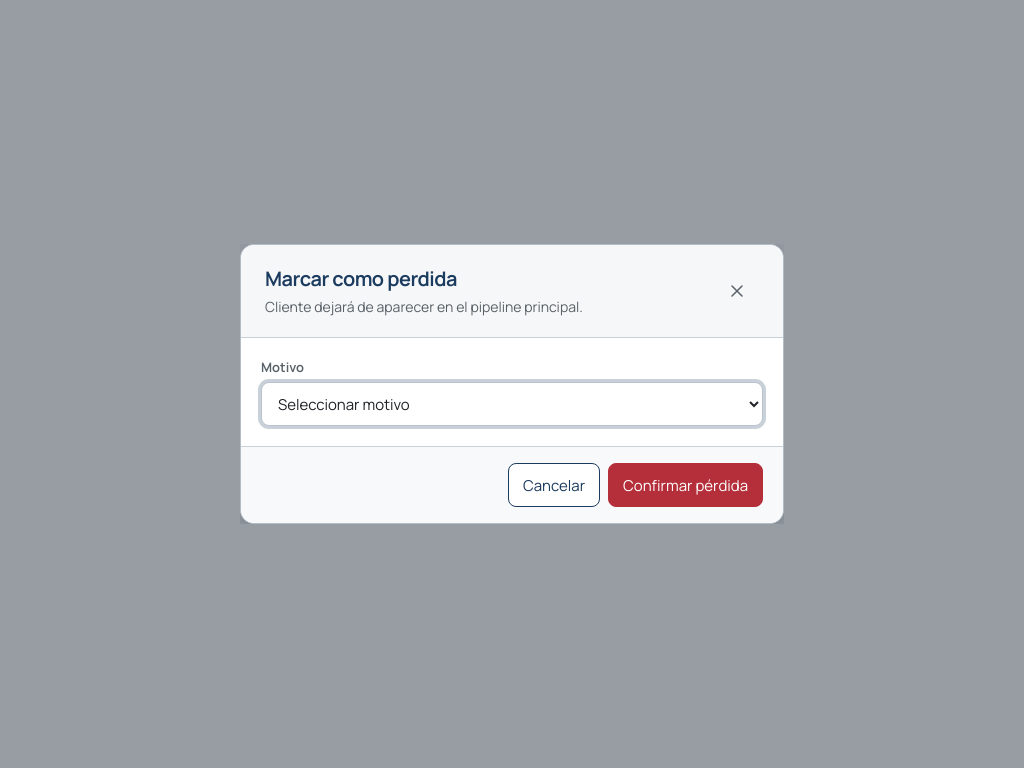
it: LossModal › keeps the dialog open with a useful command error
The image size is (1024, 768).
Select "Precio" in the dropdown labelled "Motivo" at (512, 404), box [261, 382, 763, 426]
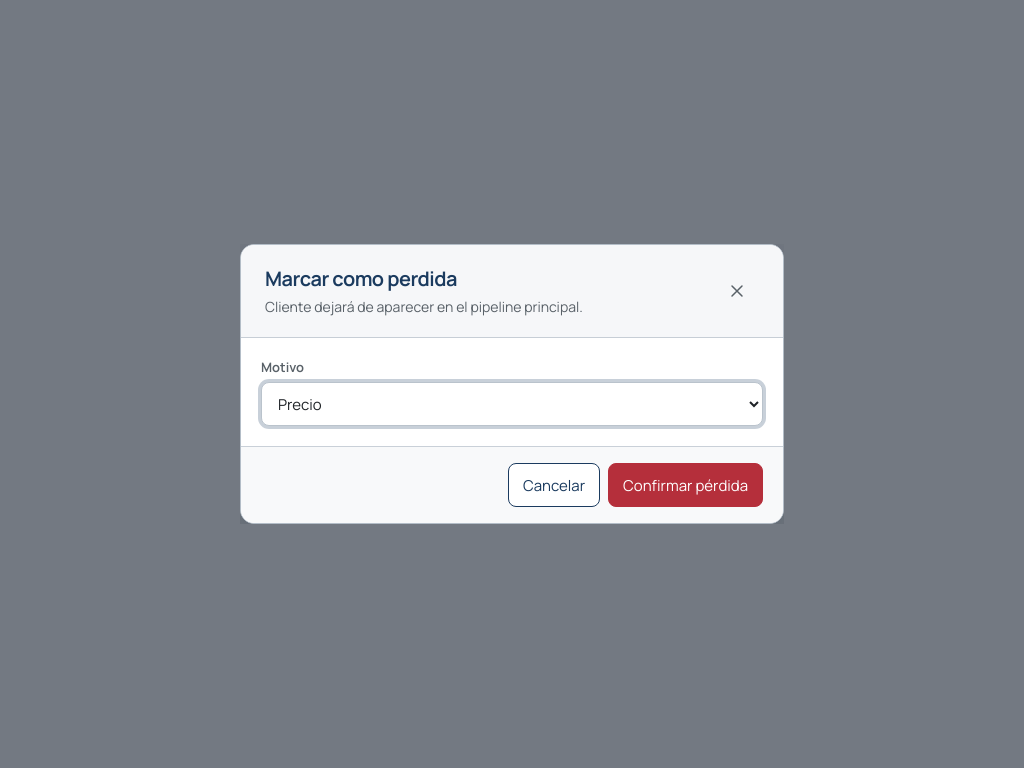
Click the button "Confirmar pérdida" at (686, 485), box [608, 463, 763, 507]
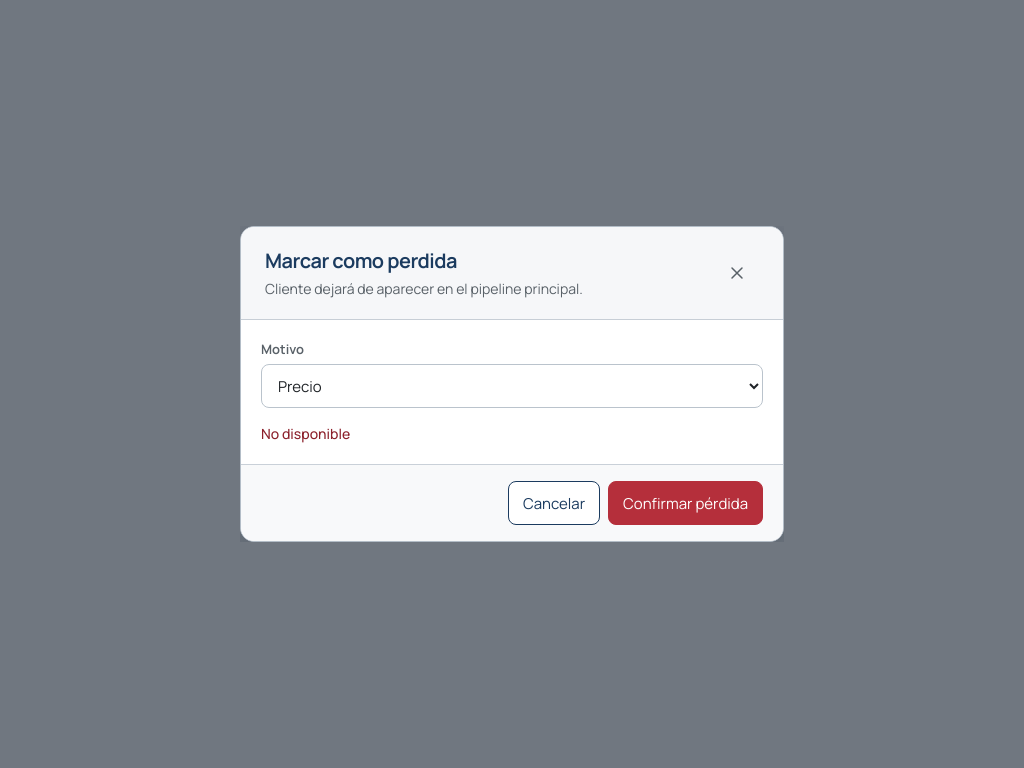
Expected: the message reads "No disponible", [261, 424, 350, 443]
